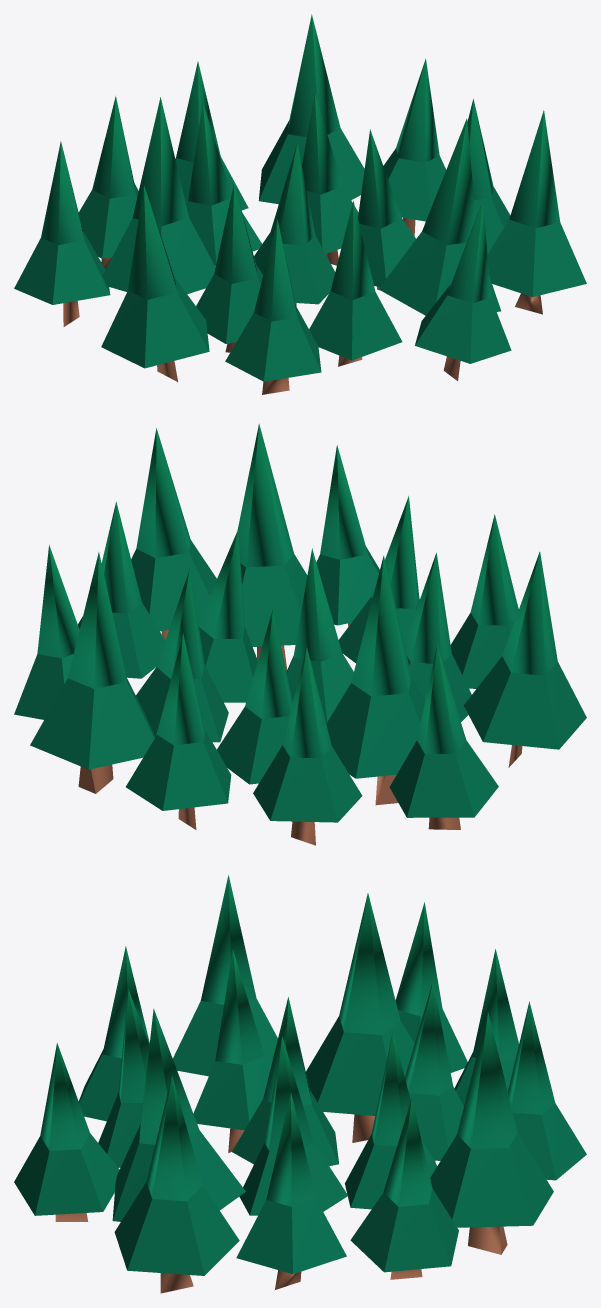
Rendered from trees_large-mid.glb.
3 views of the same model, one above another, from view 1: azimuth 30°, elevation 25°; view 2: azimuth 150°, elevation 25°; view 3: azimuth 270°, elevation 25° (orthographic). The views are drawn at different scales.
Visible parts, largest first — view 1: trees_A_large; view 2: trees_A_large; view 3: trees_A_large.
Part boxes in pixels (x1,y1,x2,y2): trees_A_large: (14, 14, 586, 394); trees_A_large: (14, 423, 586, 845); trees_A_large: (14, 875, 586, 1293).
Size of the model in its own units: 1.95 by 0.9264 by 1.97.
1 material, 1 textured.
